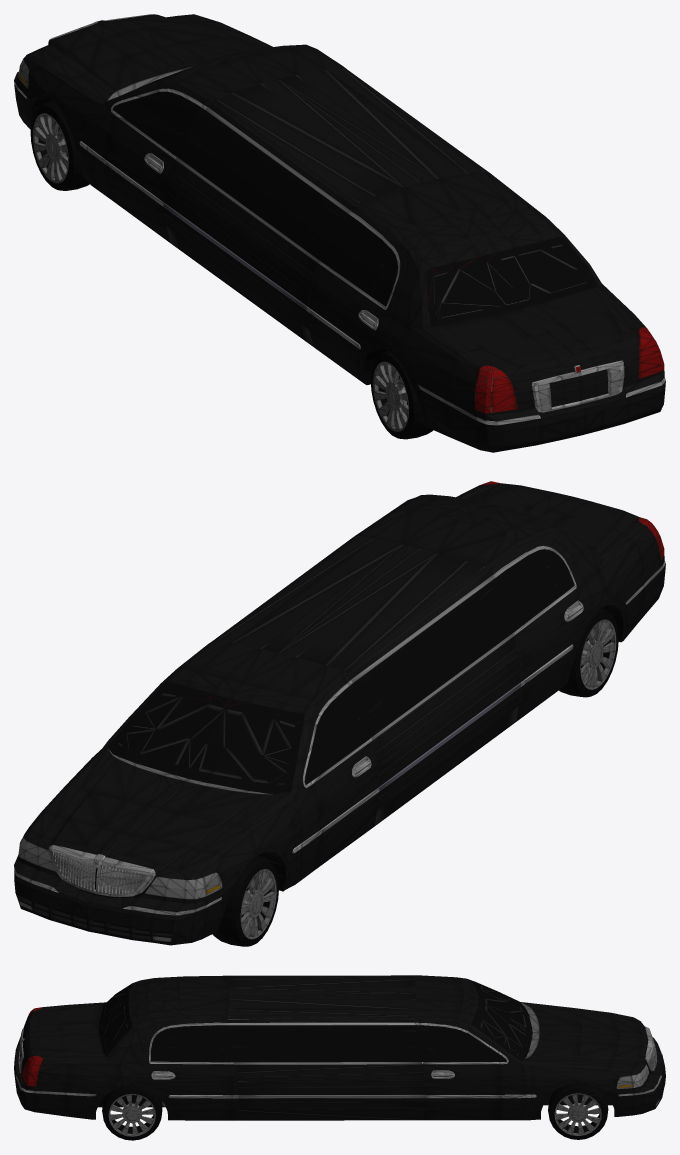
3 renders of one model, top to bottom at view 1: azimuth 30°, elevation 25°; view 2: azimuth 150°, elevation 25°; view 3: azimuth 270°, elevation 25°, orthographic. The views are drawn at different scales.
Parts seen in each view (by area): view 1: world; view 2: world; view 3: world.
Boxes of the visible parts, x1,y1,x2,y2 form: world: (14, 14, 665, 452); world: (14, 481, 665, 946); world: (14, 975, 665, 1140).
Size of the model in its own units: 0.5009 by 0.3901 by 1.99.
1 material, 1 textured.
